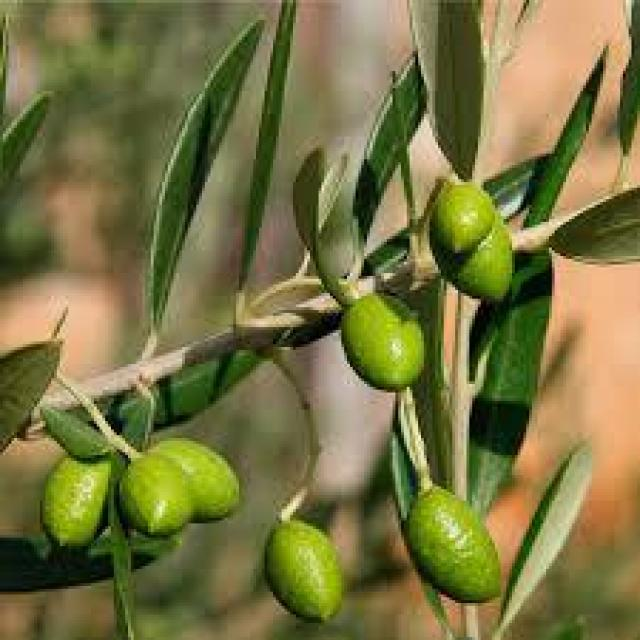Healthy: (119, 438, 239, 535), (404, 486, 498, 606), (425, 176, 514, 296), (341, 293, 424, 390), (35, 455, 114, 552), (267, 518, 341, 617)
